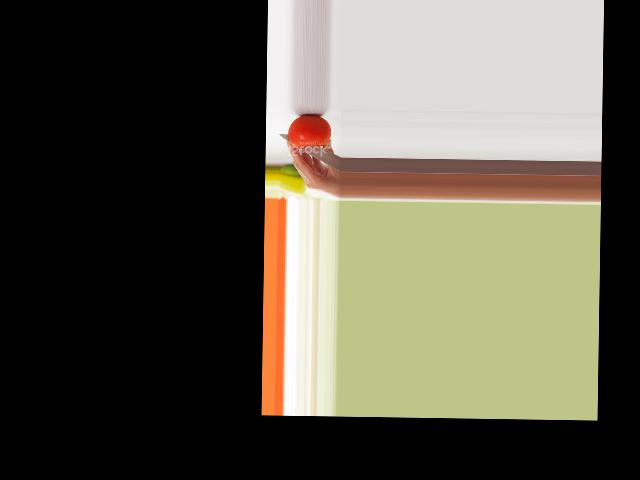tomato: (287, 114, 332, 148)
